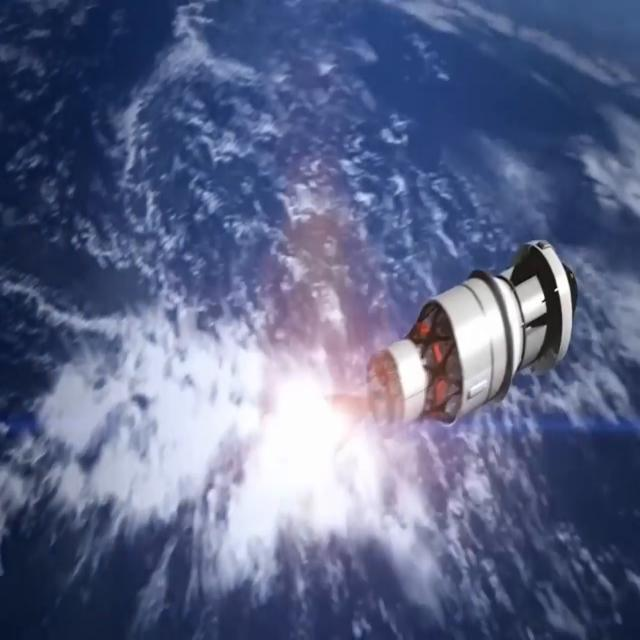sat: (328, 232, 603, 475)
